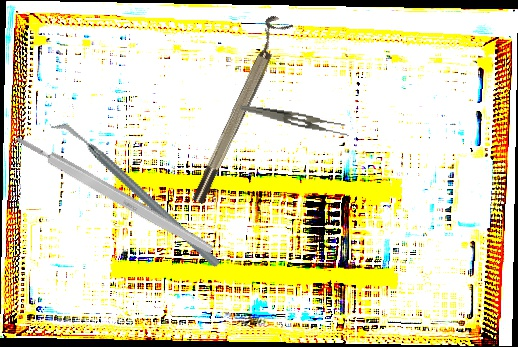Chopper: (49, 82, 222, 306)
Dressing Forceps: (238, 104, 351, 138)
Fixation Ring: (181, 13, 294, 206)
Scalpel Handle: (13, 131, 216, 257)
